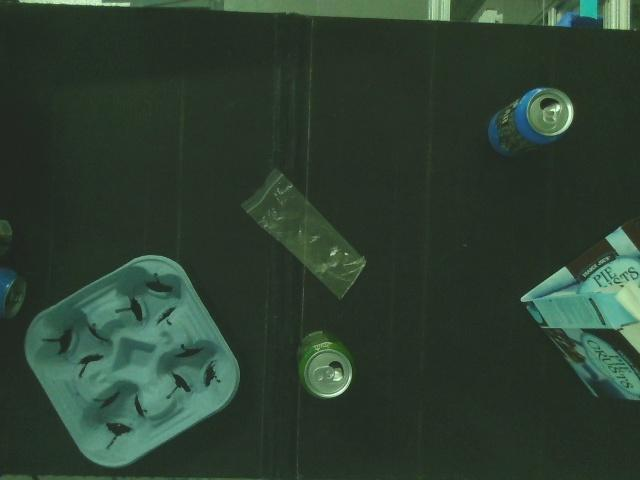cardboard: (23, 252, 243, 468), (521, 212, 640, 402)
metal: (488, 85, 574, 161), (294, 328, 356, 402), (0, 260, 30, 321)
plastic: (242, 166, 370, 302)
